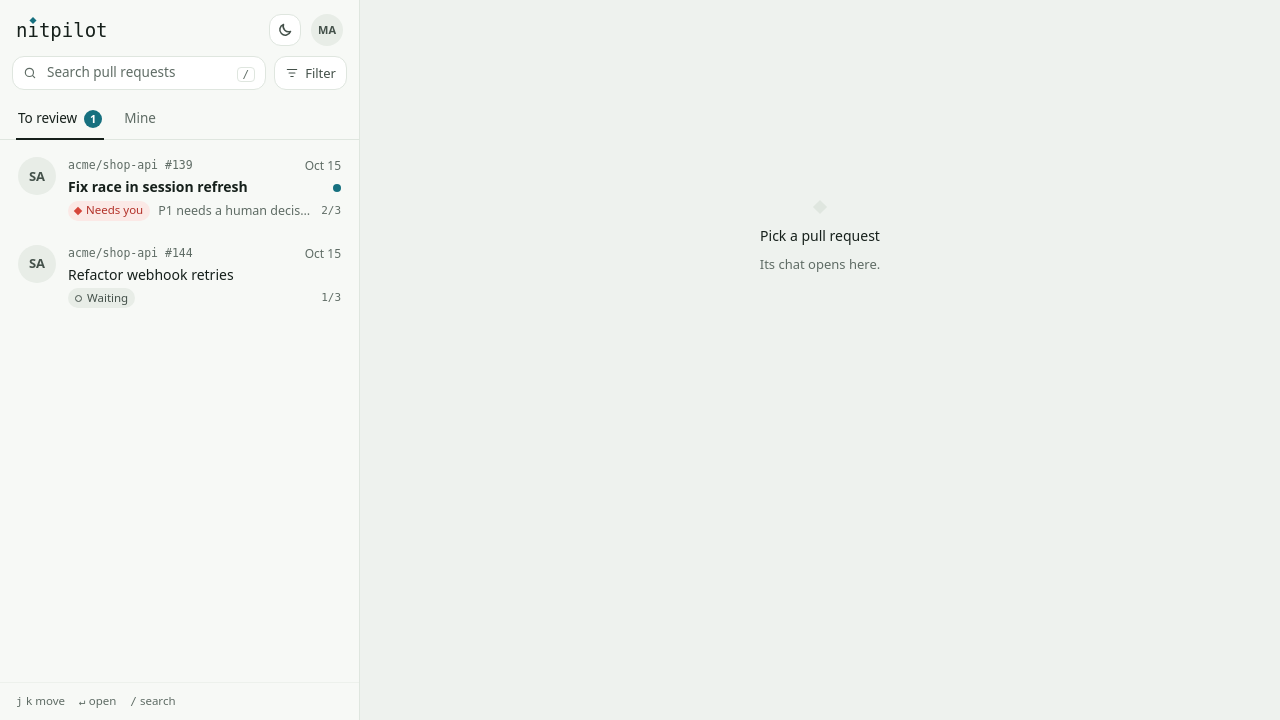
Test: Inbox (handoff §1) › switches to Mine, where the other side’s agent badge shows
The image size is (1280, 720).
Click the tab "Mine" at x=140, y=120, box [122,100,158,140]
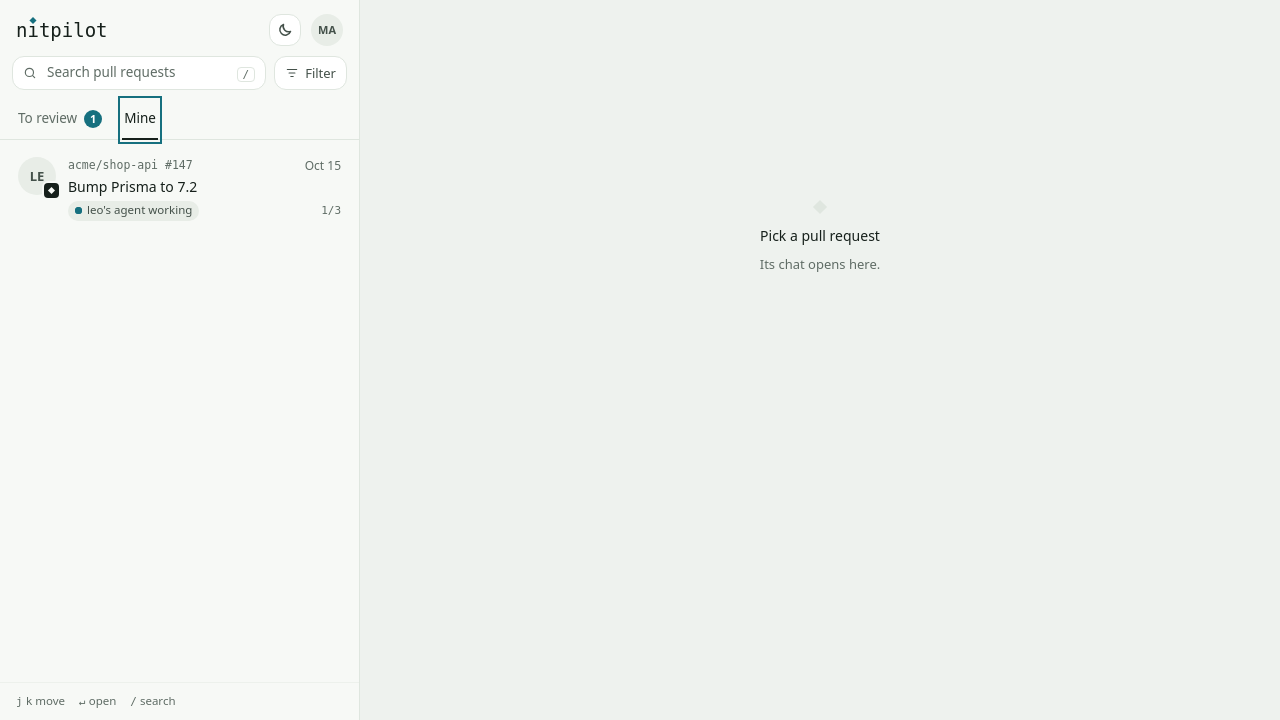
Expected: the picture named "leo's agent is active" is shown, [44,183,59,198]
Expected: the text "leo's agent working" is shown, [68,201,199,221]
